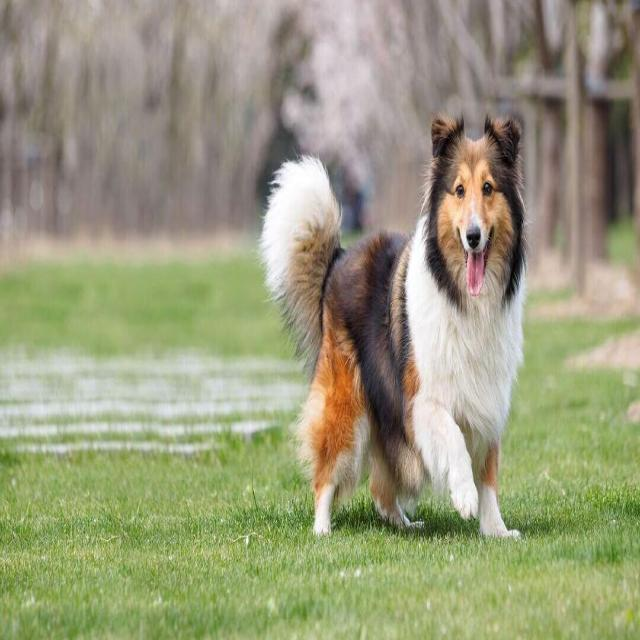Dog: (254, 98, 573, 566)
